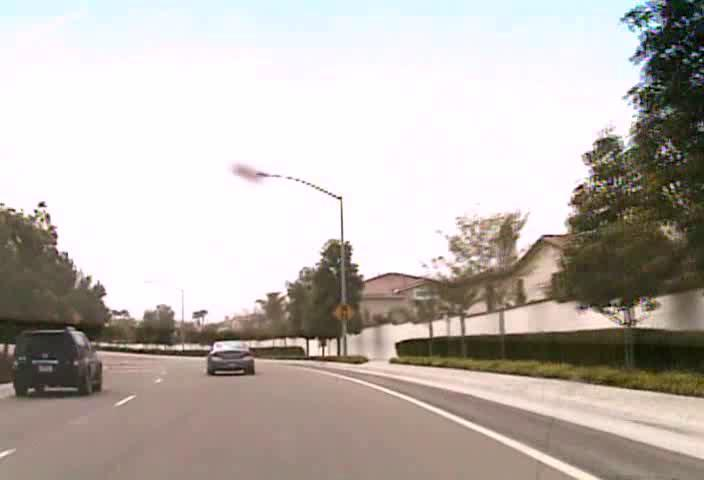signalAhead: (332, 301, 355, 323)
